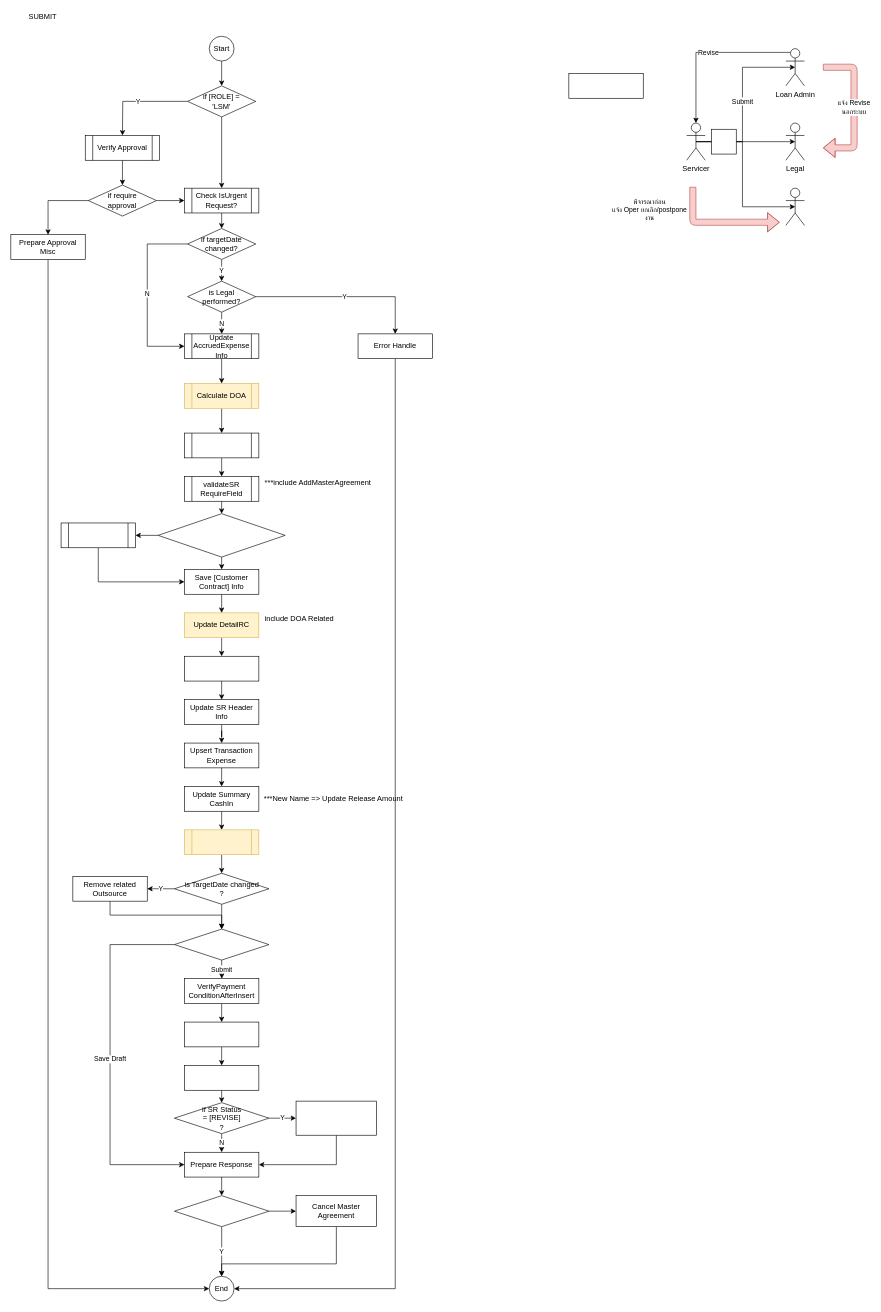
This 881x1312 diagram has some shape labels left out. Here are the shapes that lost their labels. From the top down, the centre of each, then its label:
the point at 605,85: Email Notification
the point at 723,141: DOA
the point at 794,206: Oper
the point at 221,445: Save Condition Payment
the point at 97,535: Calculate AccruedExpense
the point at 221,535: If SR Status = REVISE && Action = Submit
the point at 221,668: Update CAInfo
the point at 221,842: Tmp DOA Auto-Approved
the point at 221,944: if [Action] = SUBMIT
the point at 221,1034: Change Work Status
the point at 221,1077: Update RCDetail [AutoCalFlag] = N
the point at 336,1117: Update SR Worker [isLoanAdminComplete] to N
the point at 221,1211: if Response Code = 20001
